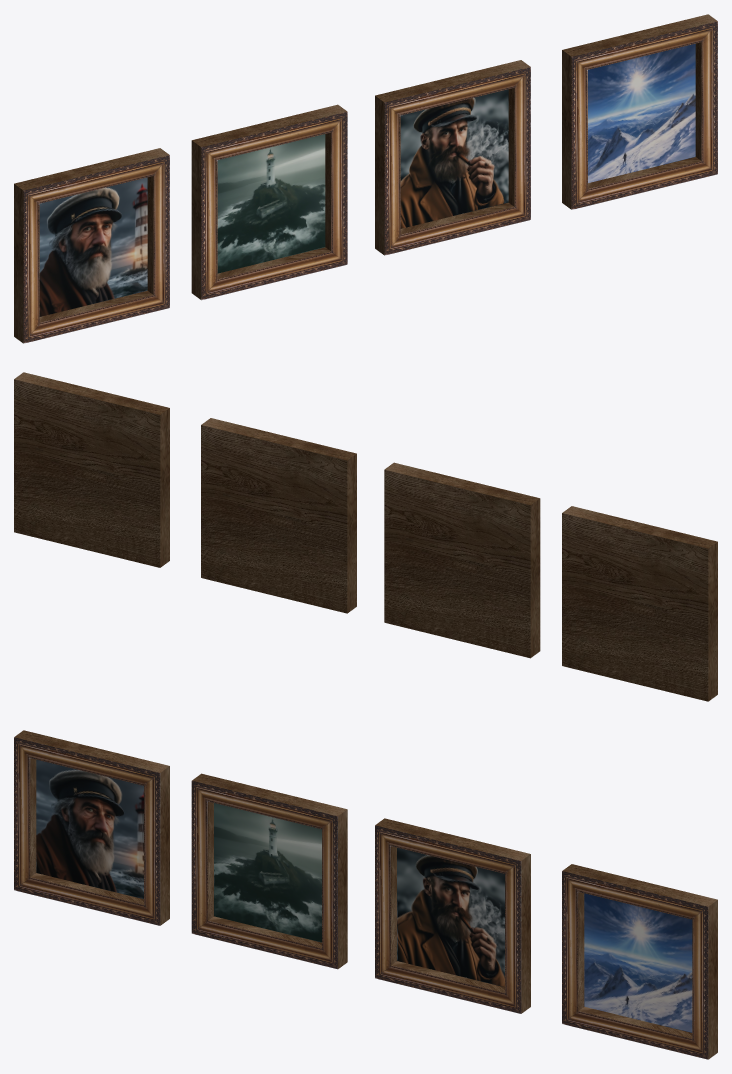
File: paint3_1.fbx
The picture shows the model from 3 angles, top to bottom: view 1: azimuth 30°, elevation 25°; view 2: azimuth 150°, elevation 25°; view 3: azimuth 330°, elevation 25°; orthographic projection.
Parts seen in each view (by area): view 1: Cube.001, Cube.002, Cube, Cube.003; view 2: Cube.001, Cube.002, Cube, Cube.003; view 3: Cube.001, Cube.002, Cube, Cube.003.
Part boxes in pixels (x1,y1,x2,y2): Cube.001: (191, 104, 347, 300); Cube.002: (375, 60, 530, 255); Cube: (14, 148, 169, 343); Cube.003: (562, 14, 717, 209); Cube.001: (384, 462, 540, 658); Cube.002: (201, 418, 356, 613); Cube: (562, 506, 717, 701); Cube.003: (14, 372, 169, 567); Cube.001: (191, 773, 347, 969); Cube.002: (375, 818, 530, 1013); Cube: (14, 730, 169, 925); Cube.003: (562, 864, 717, 1059).
Bounding box in the file's own units: 950 × 200 × 22.81.
7 materials, 7 textured.
